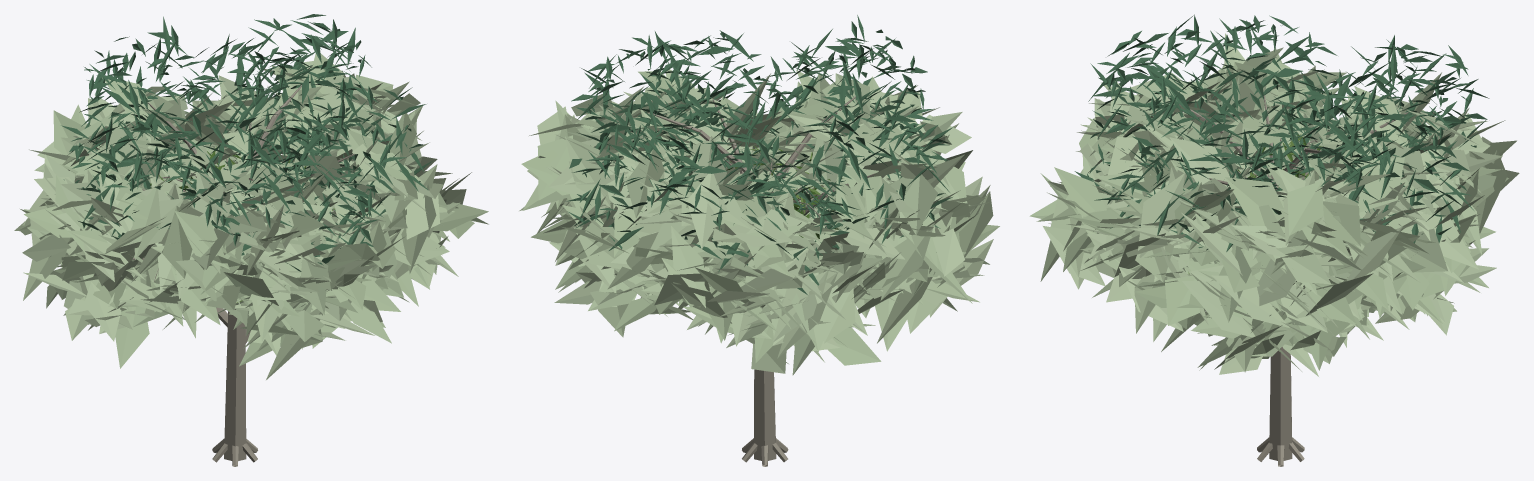
Rendered from urban-trees.glb.
3 views of the same model, side by side, from view 1: azimuth 30°, elevation 25°; view 2: azimuth 150°, elevation 25°; view 3: azimuth 270°, elevation 25° (orthographic). The views are drawn at different scales.
Parts seen in each view (by area): view 1: elm, plane, gum, palm; view 2: elm, plane, gum, palm; view 3: elm, plane, gum, palm.
Boxes of the visible parts, x1,y1,x2,y2 form: elm: (19, 61, 460, 466); plane: (14, 53, 488, 379); gum: (61, 14, 432, 271); palm: (150, 146, 336, 460); elm: (519, 72, 999, 466); plane: (537, 69, 990, 373); gum: (566, 15, 953, 294); palm: (723, 145, 843, 460); elm: (1036, 47, 1519, 466); plane: (1029, 33, 1502, 376); gum: (1074, 14, 1489, 251); palm: (1188, 134, 1350, 460).
Size of the model in its own units: 11.99 by 11 by 11.72.
